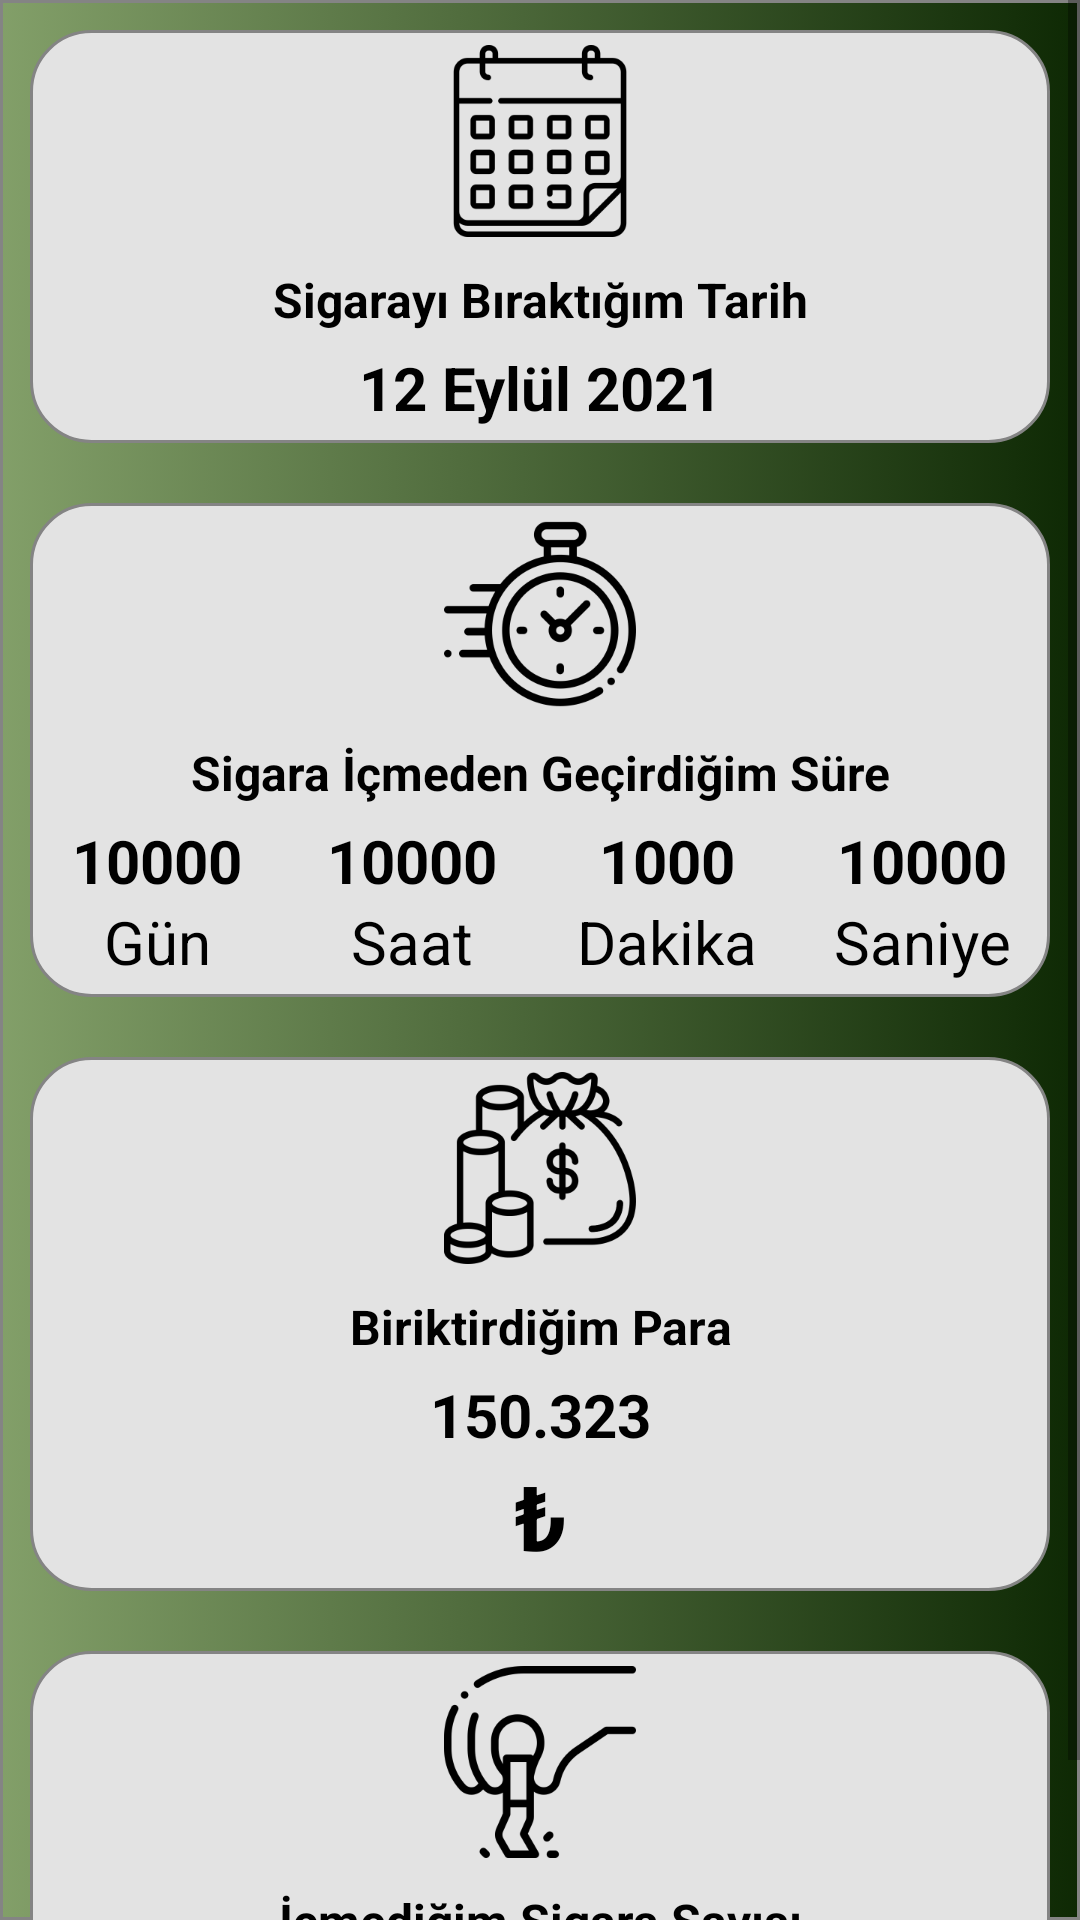

Screen size 1080px x 1920px. Icon name, then its box in pixels as Rect(x1, y1, x2, y2):
calendar: Rect(453, 45, 627, 237)
money: Rect(444, 1072, 636, 1264)
quitsmoking: Rect(444, 1666, 636, 1858)
savedtime: Rect(444, 522, 636, 707)
